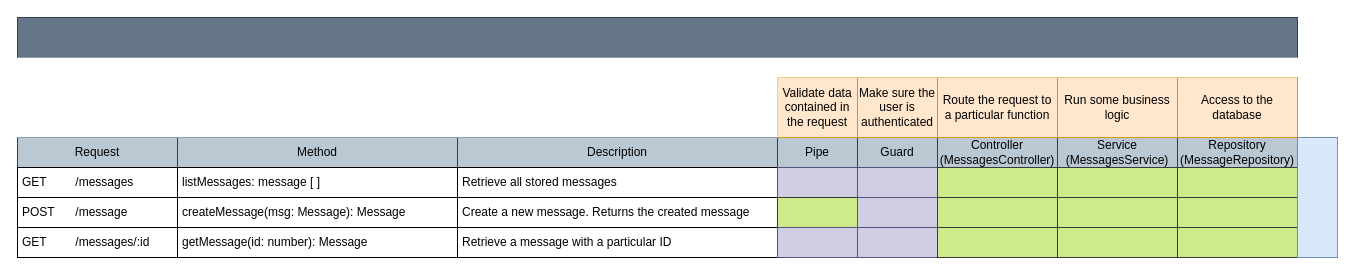
Some shapes in this 1355 by 275 pixel diagram are drawn without their labels. Each missing label, with the centre of its shape:
/messages: point (397, 107)
MessagesModule: point (1317, 197)
REST API: point (657, 37)
v1: point (657, 67)
